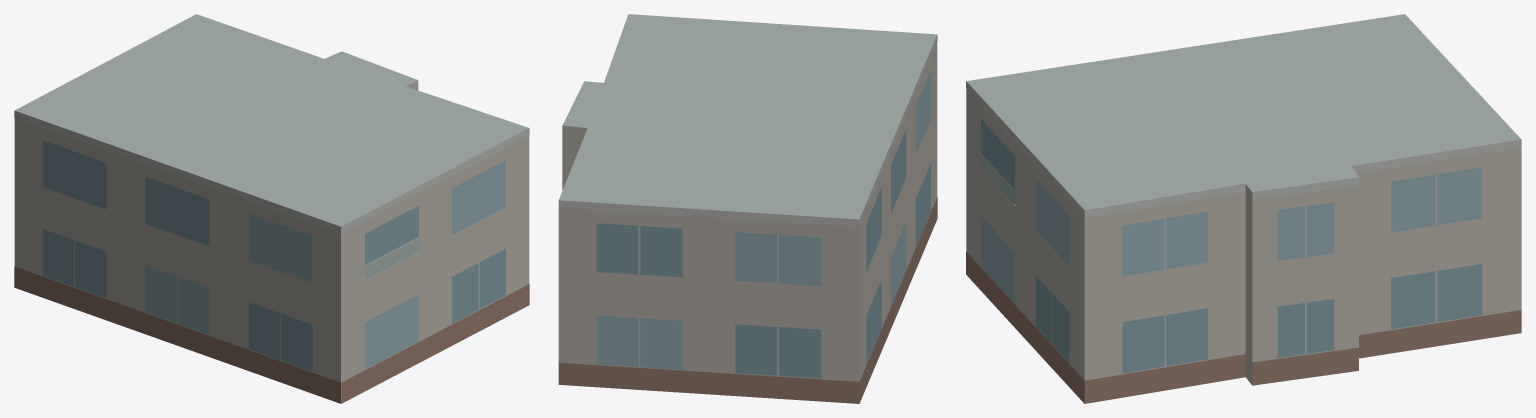
The model's file is survey-upis-32890644.glb.
3 views of the same model, side by side, from view 1: azimuth 30°, elevation 25°; view 2: azimuth 150°, elevation 25°; view 3: azimuth 270°, elevation 25° (orthographic). The views are drawn at different scales.
Parts seen in each view (by area): view 1: survey-upis-32890644.tmp; view 2: survey-upis-32890644.tmp; view 3: survey-upis-32890644.tmp.
Boxes of the visible parts, x1,y1,x2,y2 form: survey-upis-32890644.tmp: [14, 14, 529, 403]; survey-upis-32890644.tmp: [558, 14, 937, 403]; survey-upis-32890644.tmp: [966, 14, 1521, 403].
Bounding box in the file's own units: 13.29 × 6.1 × 15.88.
